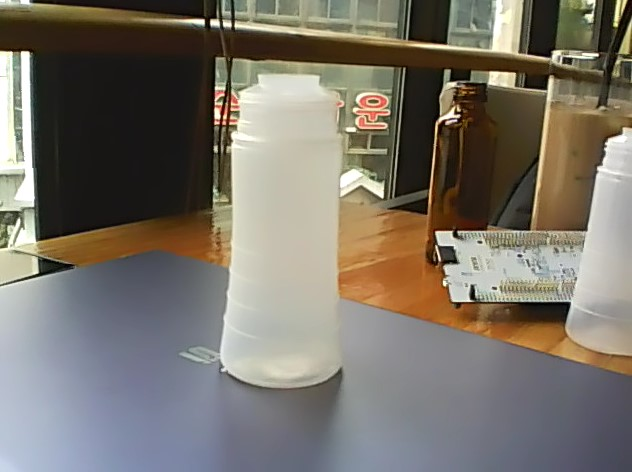Plastic: (218, 72, 345, 391)
